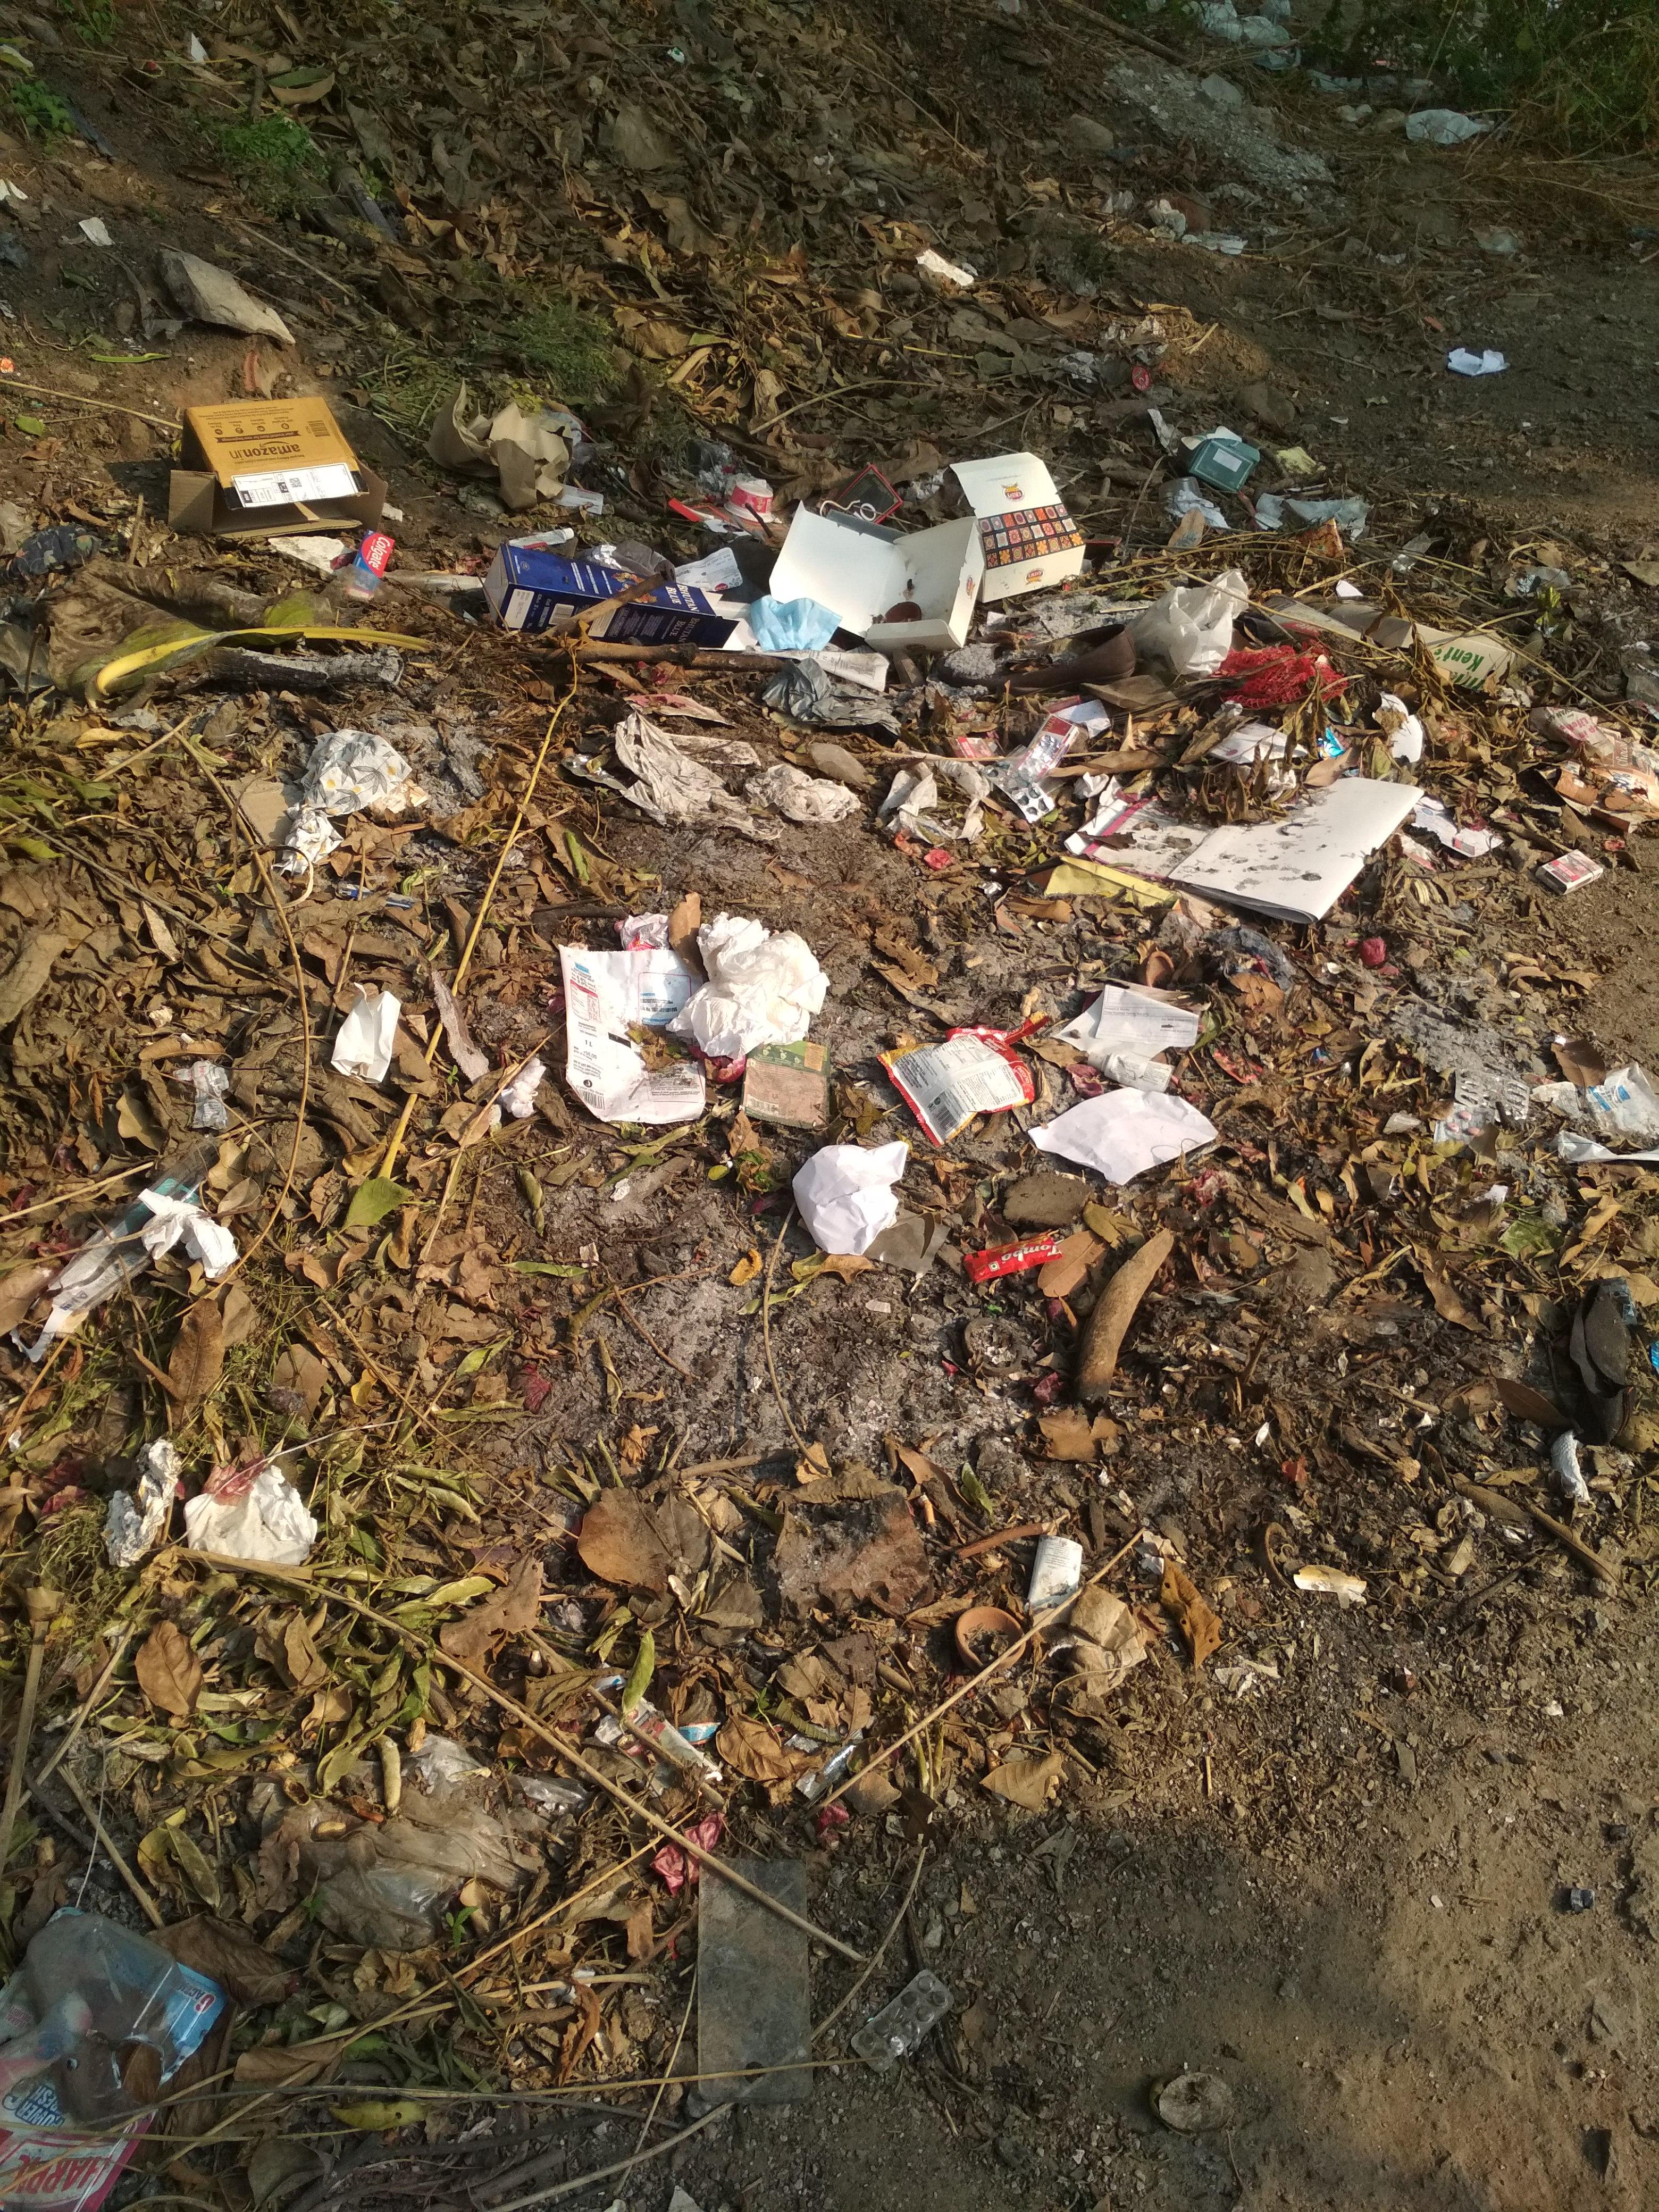trash: (118, 317, 1658, 1586)
